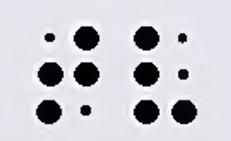t: (37, 25, 100, 126)
v: (132, 25, 200, 126)
